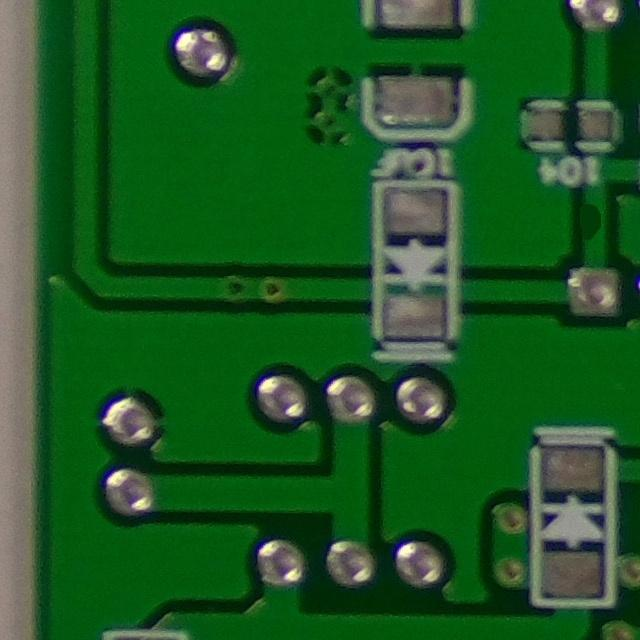mouse_bite: (567, 192, 613, 253)
